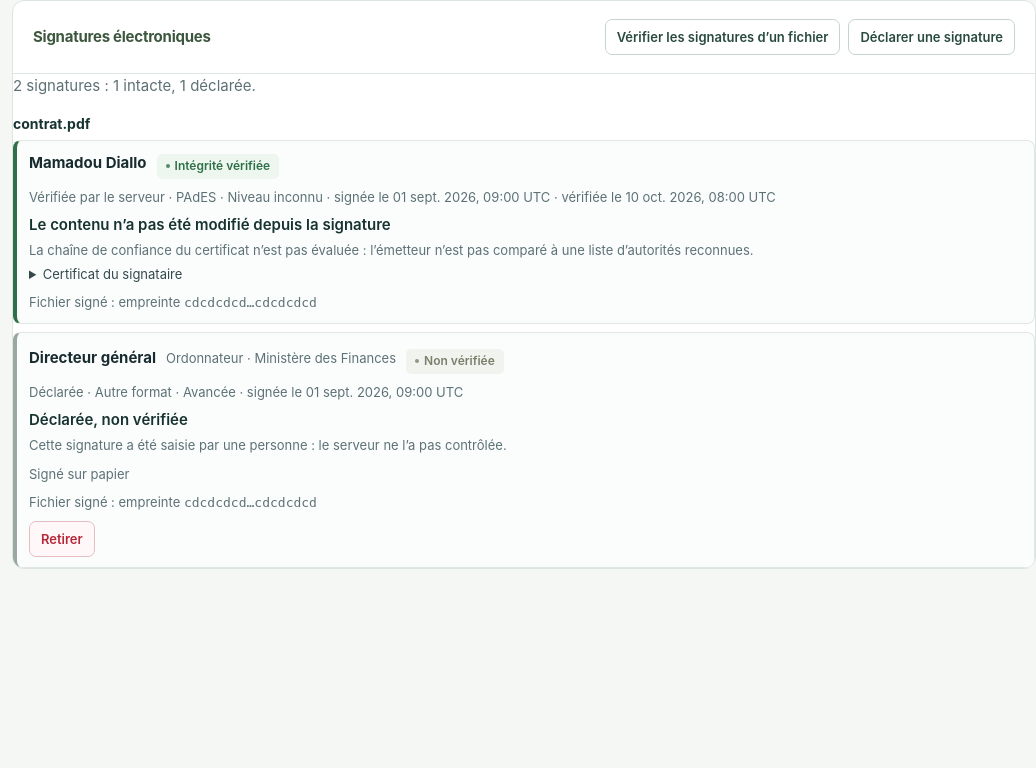
Test case: une signature déclarée se retire après confirmation, avec sa version ; une vérifiée ne se retire pas
The image size is (1036, 768).
Expected: the text "Directeur général" is shown, [29,346,156,370]
Step 1. Click the button "Retirer" → click(62, 539), box [29,521,95,557]
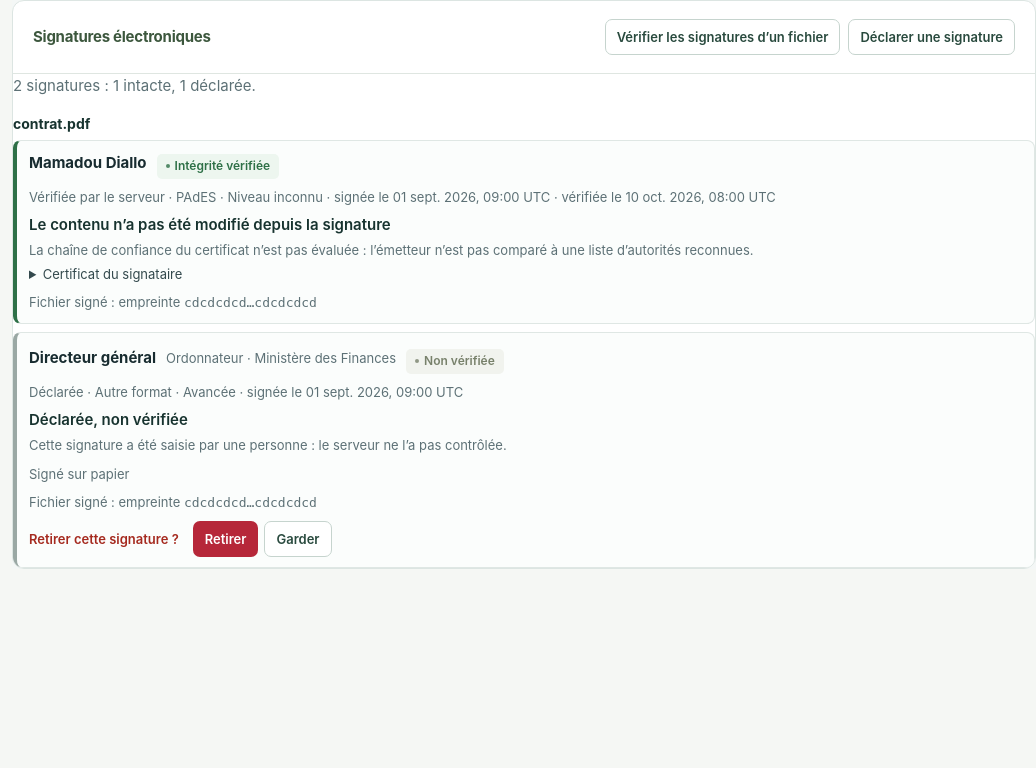
Expected: the text "Retirer cette signature ?" is shown, [29,529,179,549]
Step 2. Click the button "Garder" → click(298, 539), box [264,521,332,557]
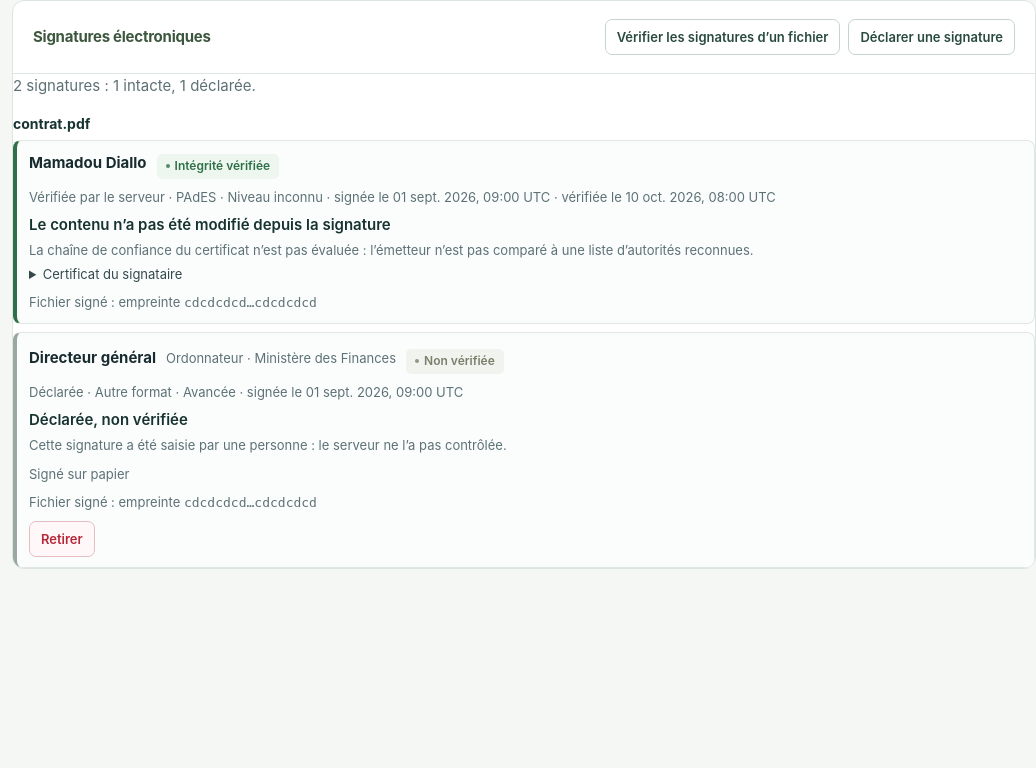
Expected: the text "Retirer cette signature ?" is gone
Step 3. Click the button "Retirer" → click(62, 539), box [29,521,95,557]
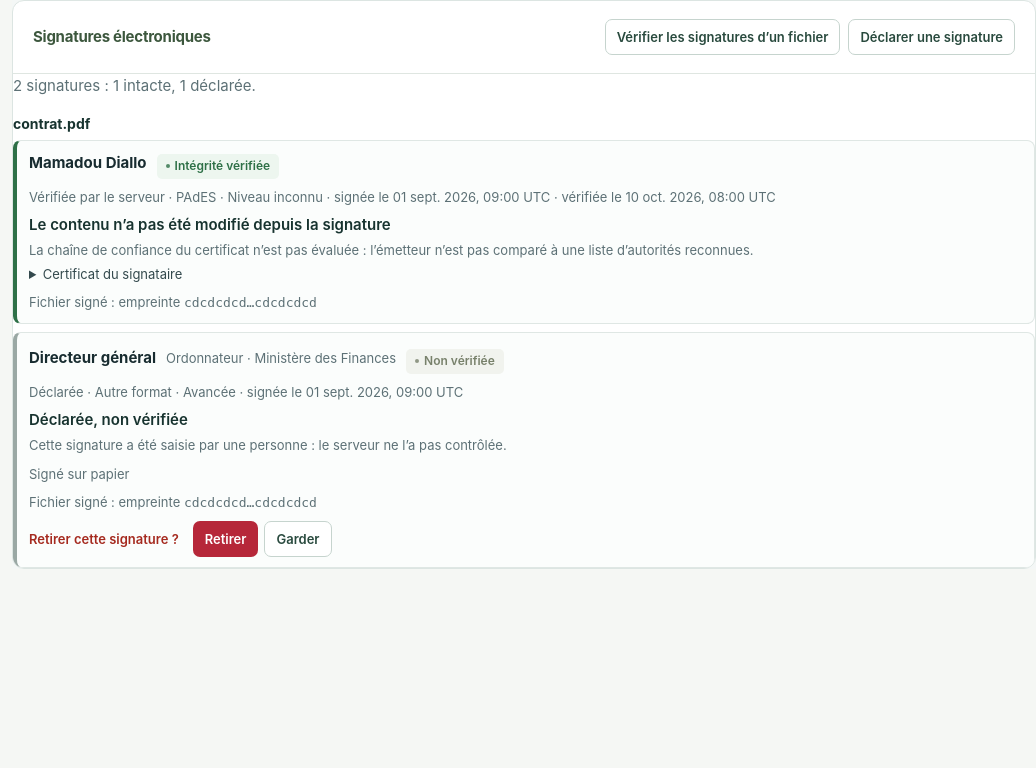
Step 4. Click the button "Retirer" → click(226, 539), box [193,521,258,557]
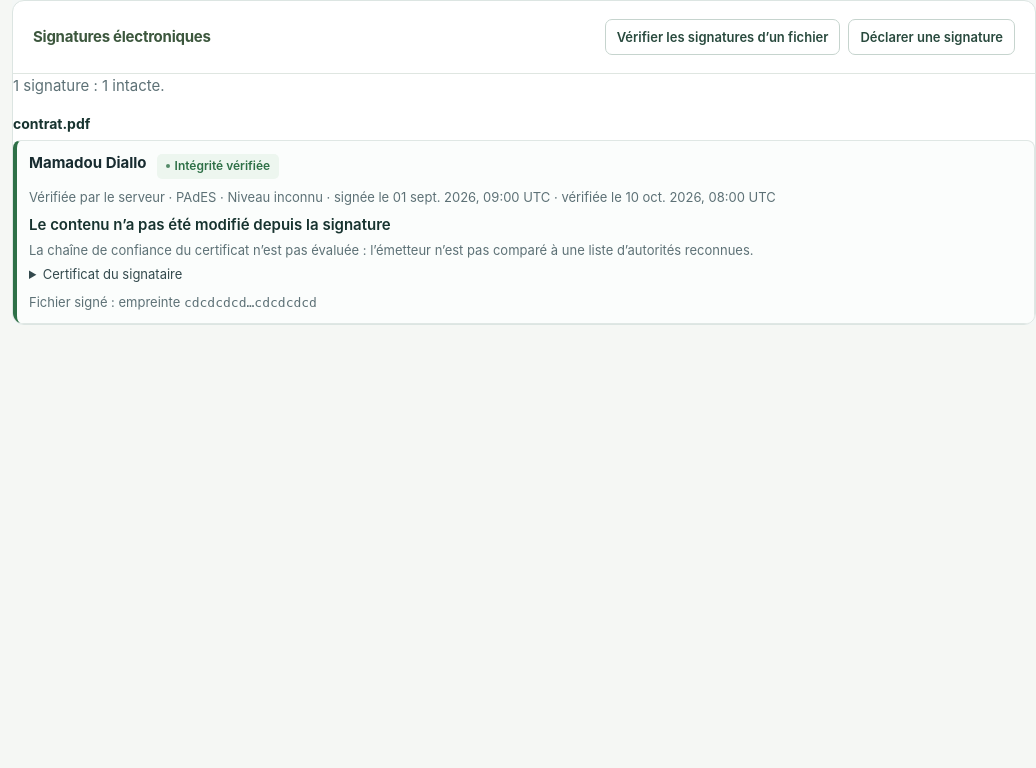
Expected: the text "Directeur général" is gone
